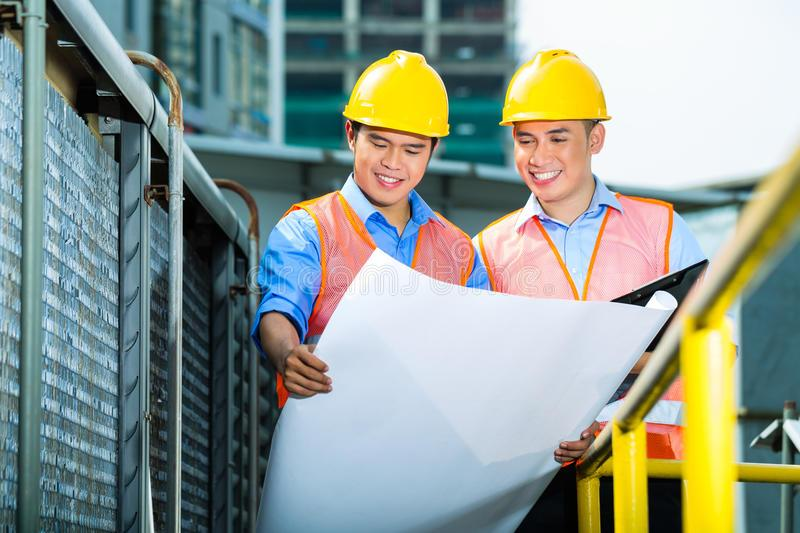helmet: (342, 49, 454, 139), (499, 51, 613, 126)
